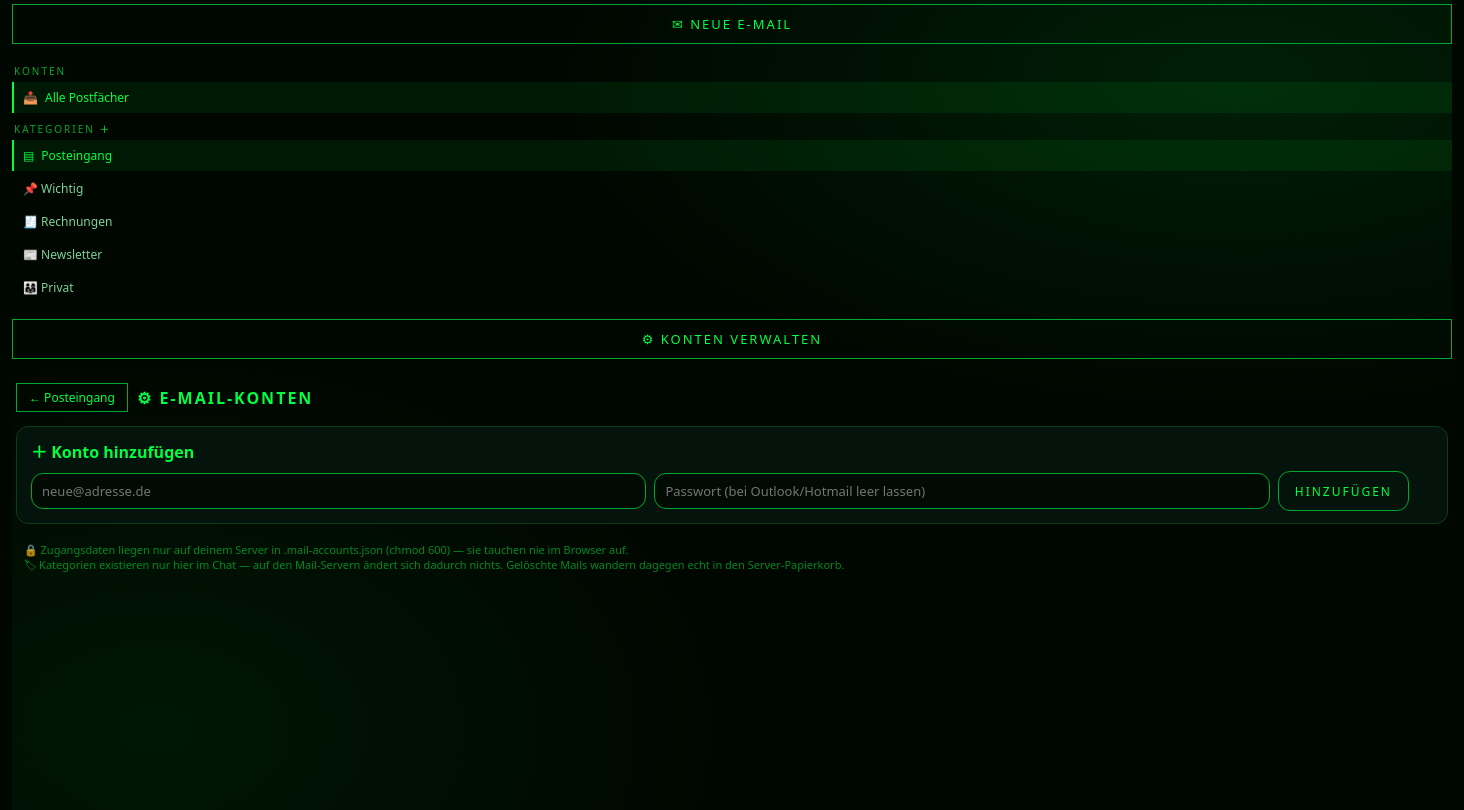
Einrichtung › ohne Konto geht es direkt zu den Konten; hinzufügen ruft den Server
Expected: the heading "⚙ E-MAIL-KONTEN" is shown, top-left (137, 386), bottom-right (313, 408)
Click the button "HINZUFÜGEN" at (1343, 491), box top-left (1278, 471), bottom-right (1409, 511)
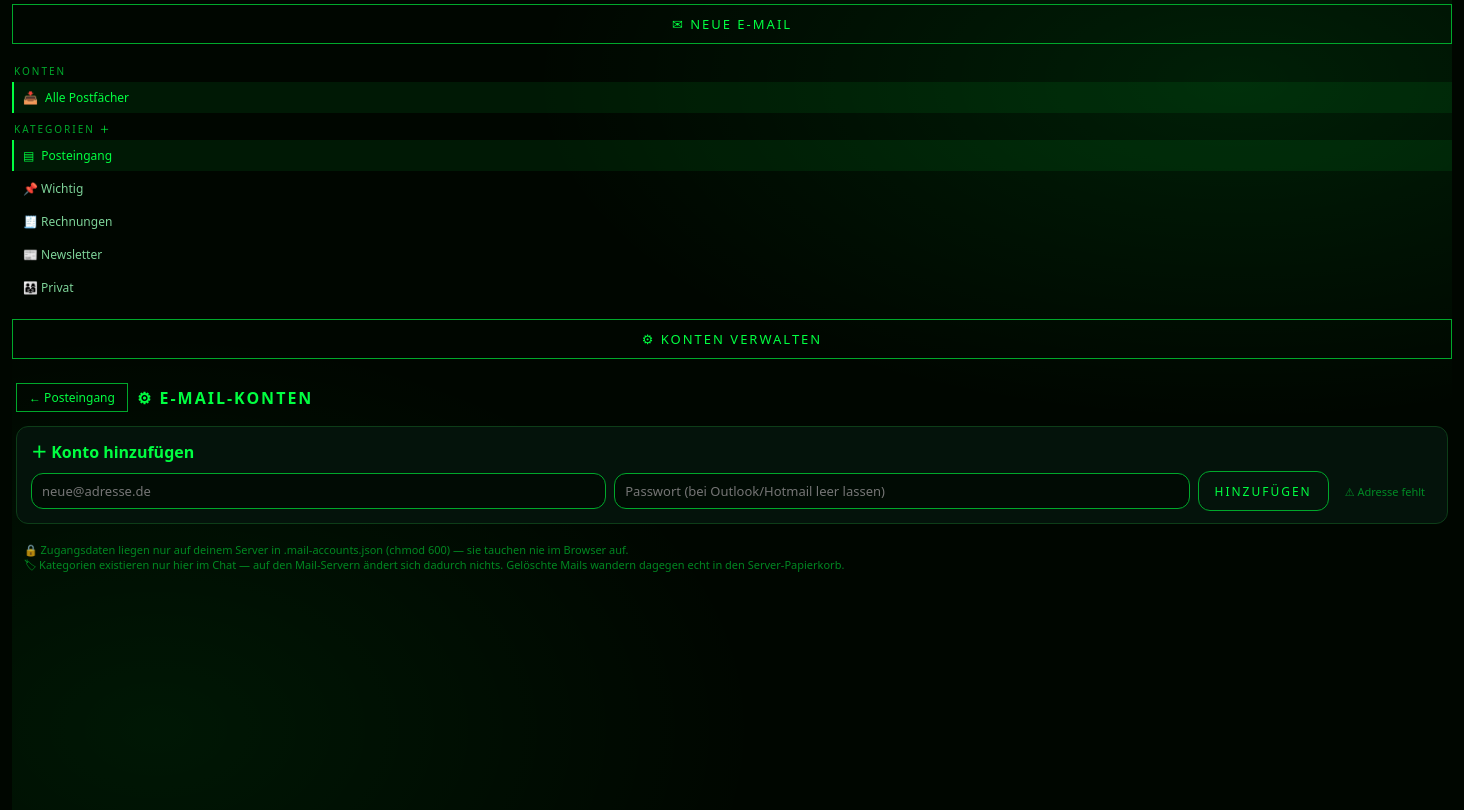
Expected: the text "⚠ Adresse fehlt" is shown, top-left (1345, 484), bottom-right (1425, 498)
Type " kevin@outlook.de " into the field with placeholder "neue@adresse.de" at (319, 491), box top-left (31, 473), bottom-right (606, 509)
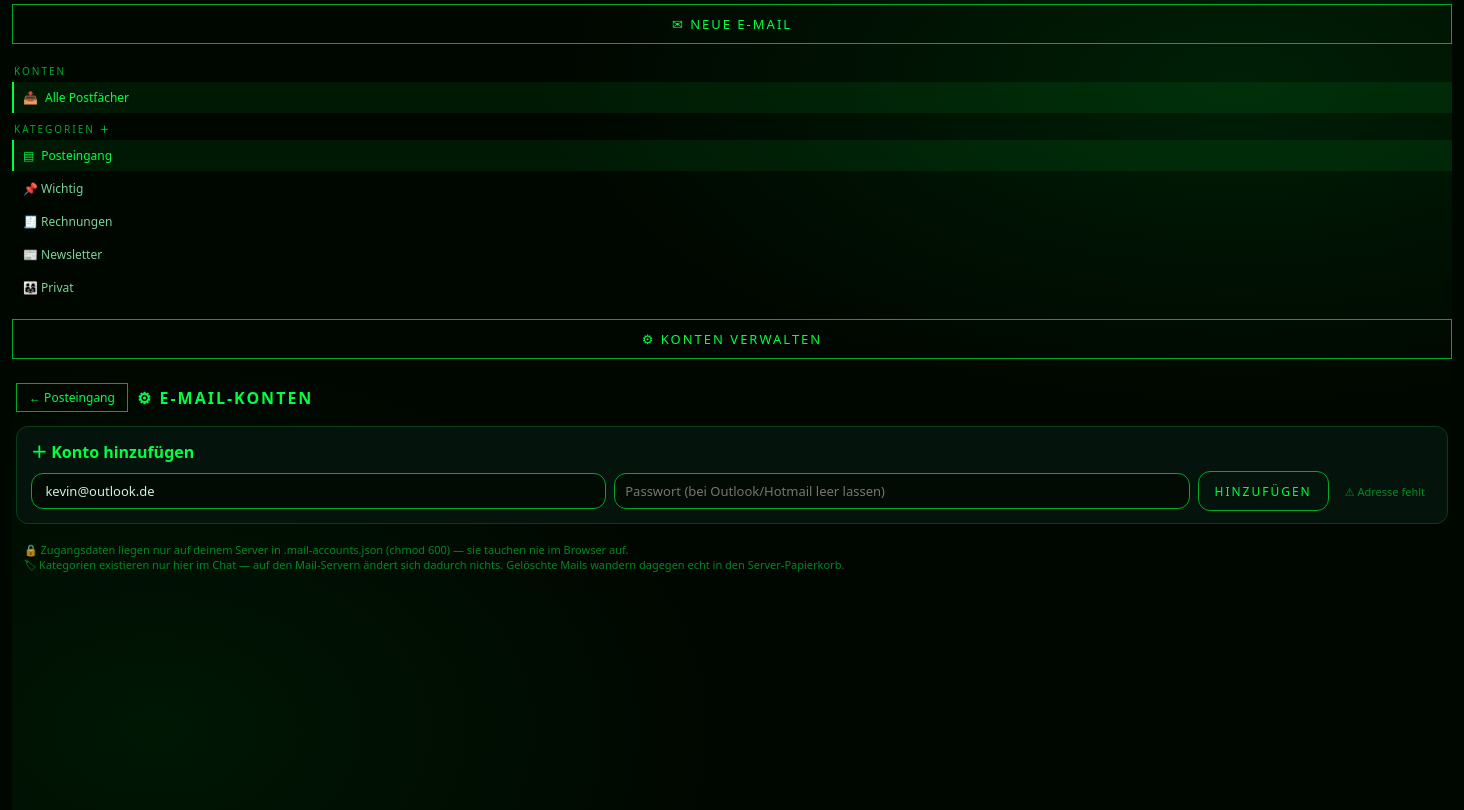
Click the button "HINZUFÜGEN" at (1263, 491), box top-left (1198, 471), bottom-right (1329, 511)
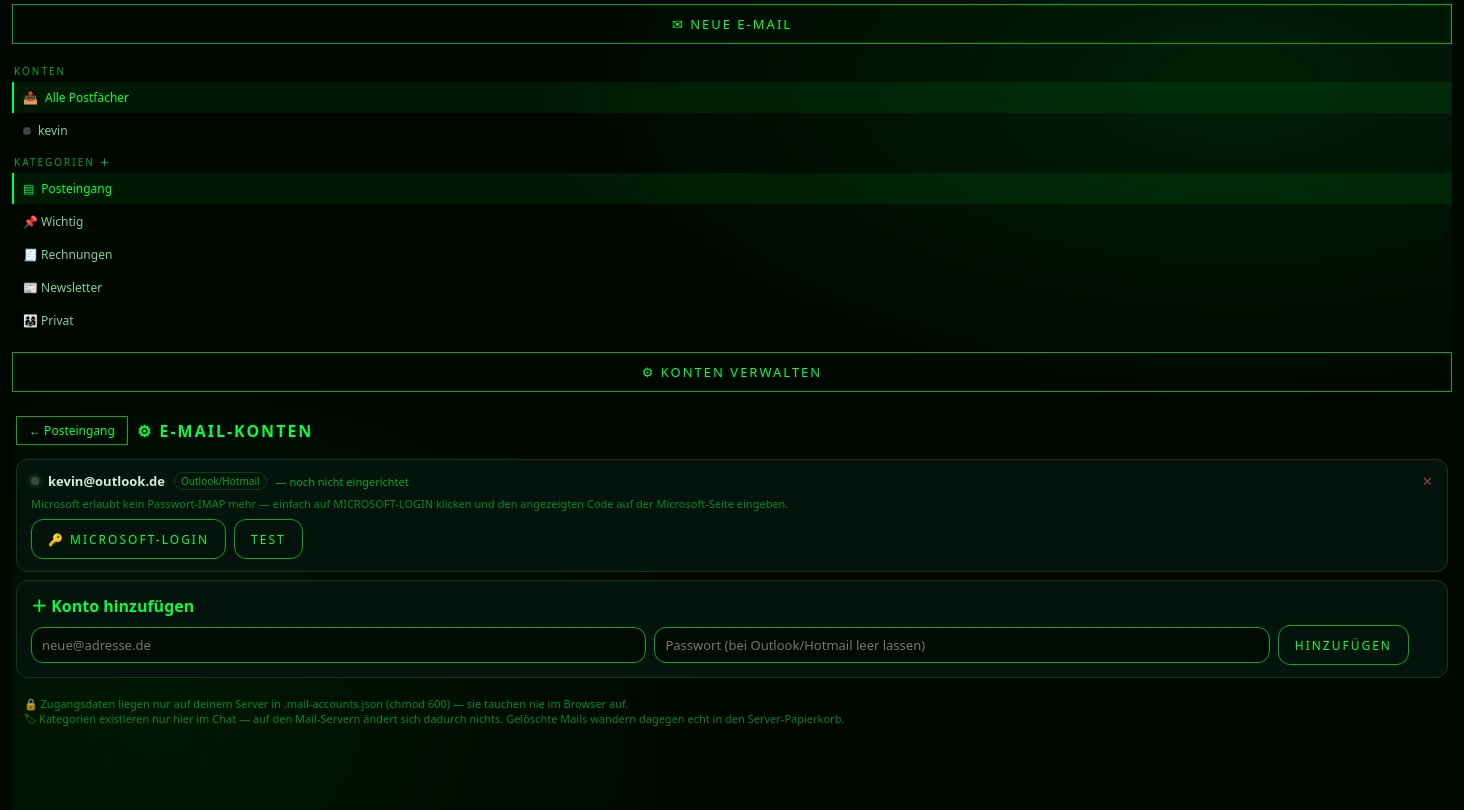
Expected: the text "kevin@outlook.de" is shown, top-left (48, 472), bottom-right (165, 490)
Expected: the button "🔑 MICROSOFT-LOGIN" is shown, top-left (31, 519), bottom-right (226, 559)
Expected: the text "— noch nicht eingerichtet" is shown, top-left (276, 474), bottom-right (409, 488)
Note: ← Posteingang zeigt danach die (leere) Liste, statt wieder umzuleiten.
Click the button "← Posteingang" at (72, 430), box top-left (16, 416), bottom-right (128, 445)
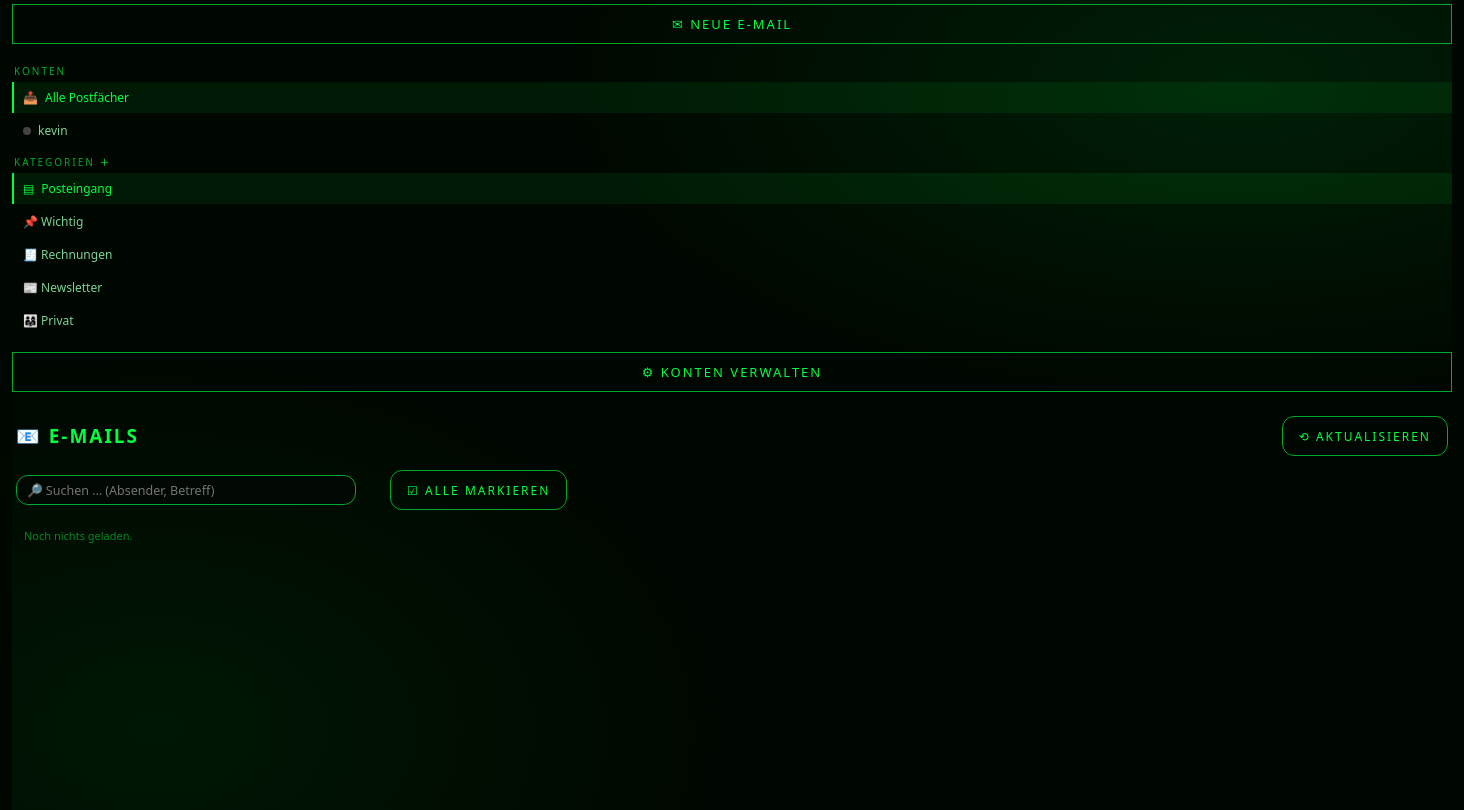
Expected: the text "Noch nichts geladen." is shown, top-left (24, 528), bottom-right (132, 543)
